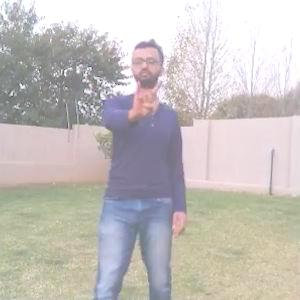takeoff-hand: (125, 74, 168, 125)
